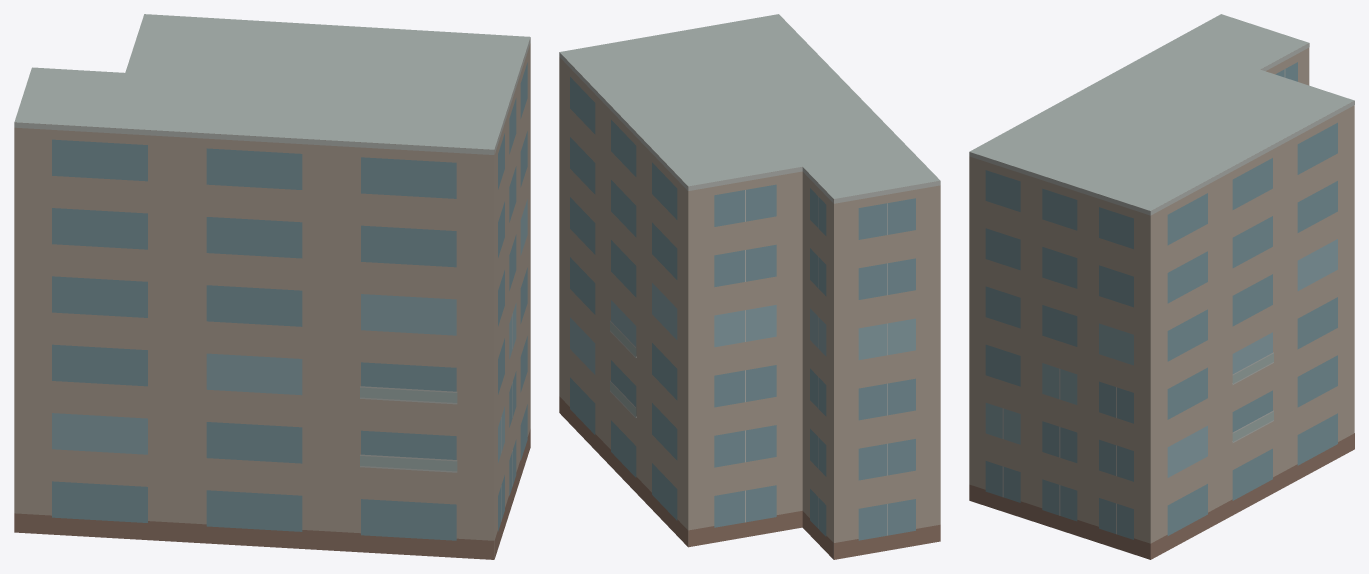
Rendered from survey-upis-32657207.glb.
3 views of the same model, side by side, from view 1: azimuth 30°, elevation 25°; view 2: azimuth 150°, elevation 25°; view 3: azimuth 270°, elevation 25° (orthographic). The views are drawn at different scales.
Visible parts, largest first — view 1: survey-upis-32657207.tmp; view 2: survey-upis-32657207.tmp; view 3: survey-upis-32657207.tmp.
Boxes of the visible parts, x1,y1,x2,y2 form: survey-upis-32657207.tmp: (14,14,530,559); survey-upis-32657207.tmp: (559,14,940,559); survey-upis-32657207.tmp: (969,14,1354,559).
Bounding box in the file's own units: 22.54 × 18.6 × 18.64.
